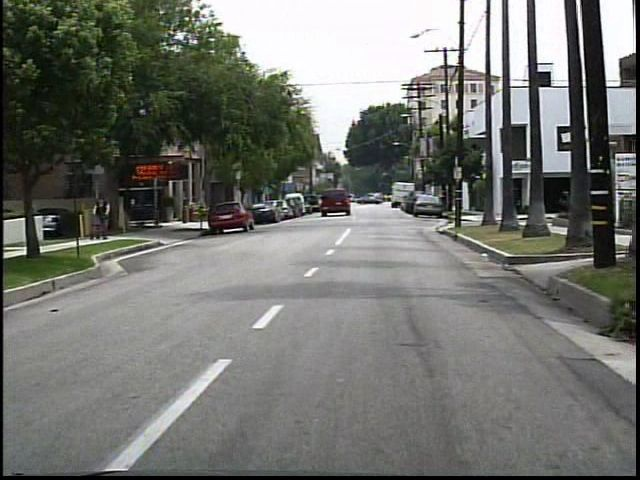person: (89, 193, 115, 243)
